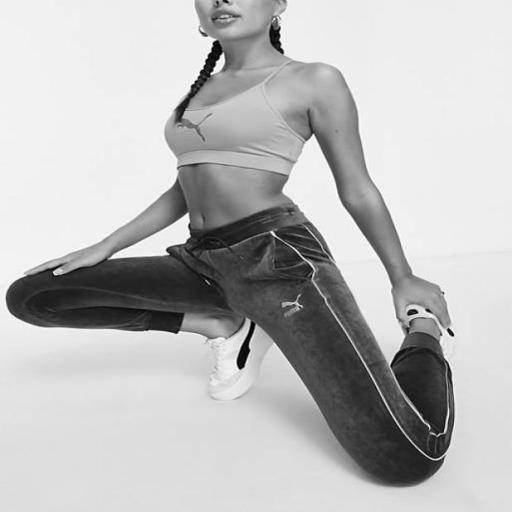Puma: (174, 111, 215, 142), (275, 290, 306, 322)
